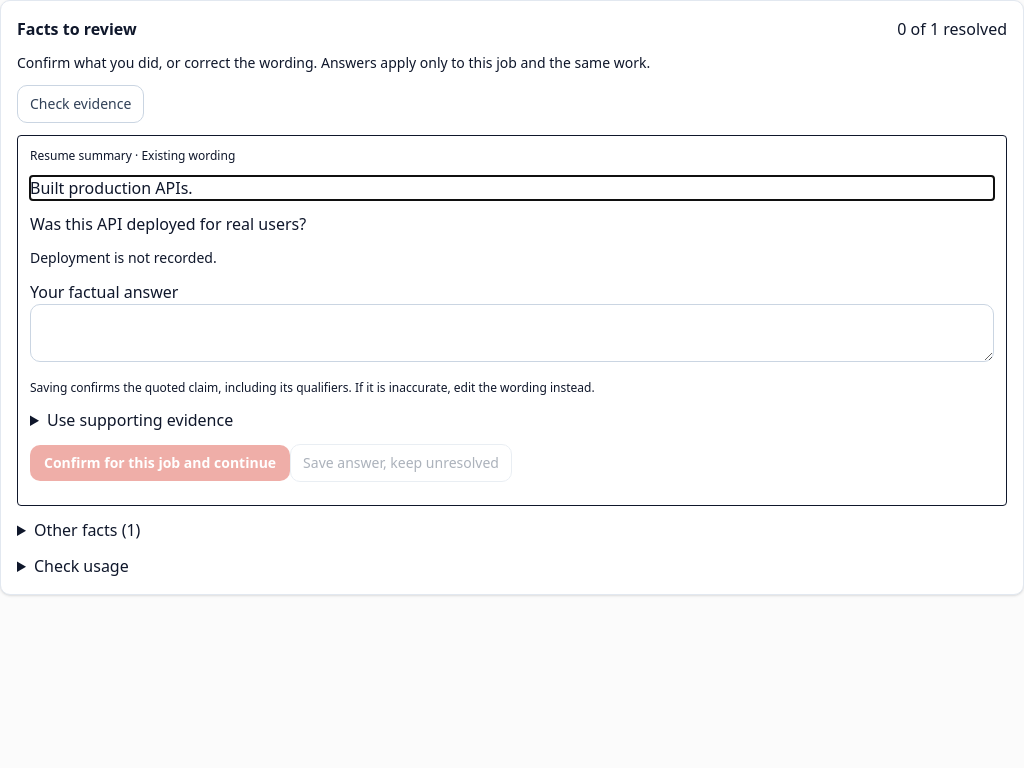
Test: saves uncertainty explicitly without treating it as confirmation
Step 1. Type "I need to check deployment." into the text box labelled "Your factual answer" → (512, 333), box [30, 304, 994, 362]
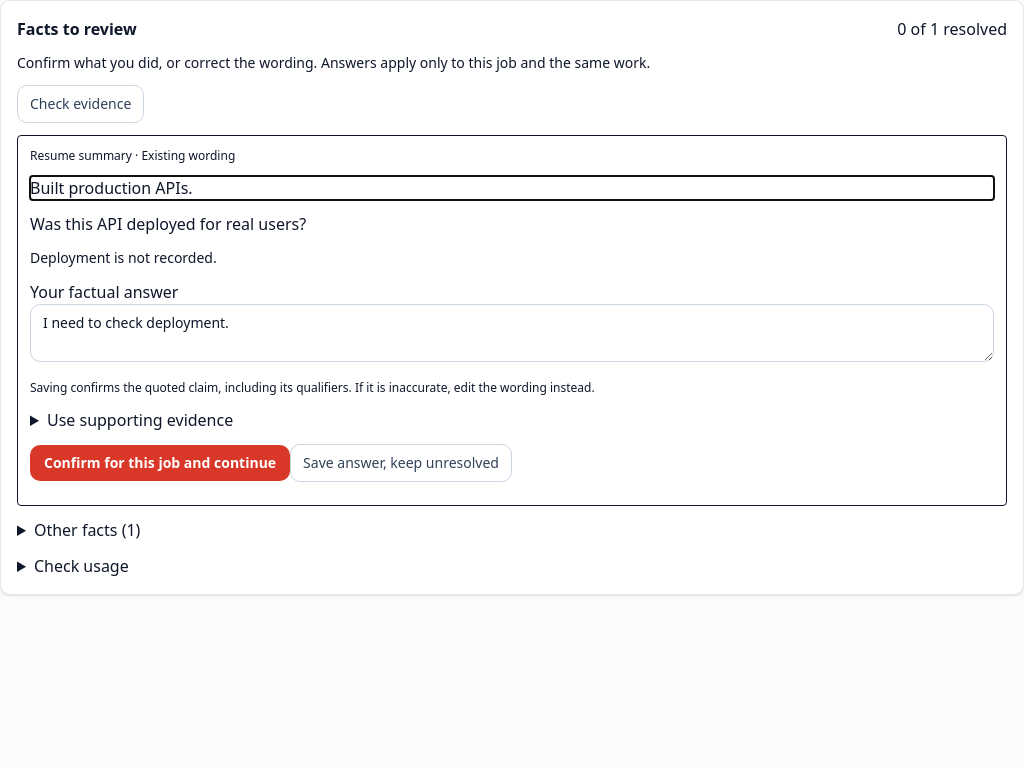
Step 2. Click the button "Save answer, keep unresolved" → (401, 463), box [290, 444, 512, 482]
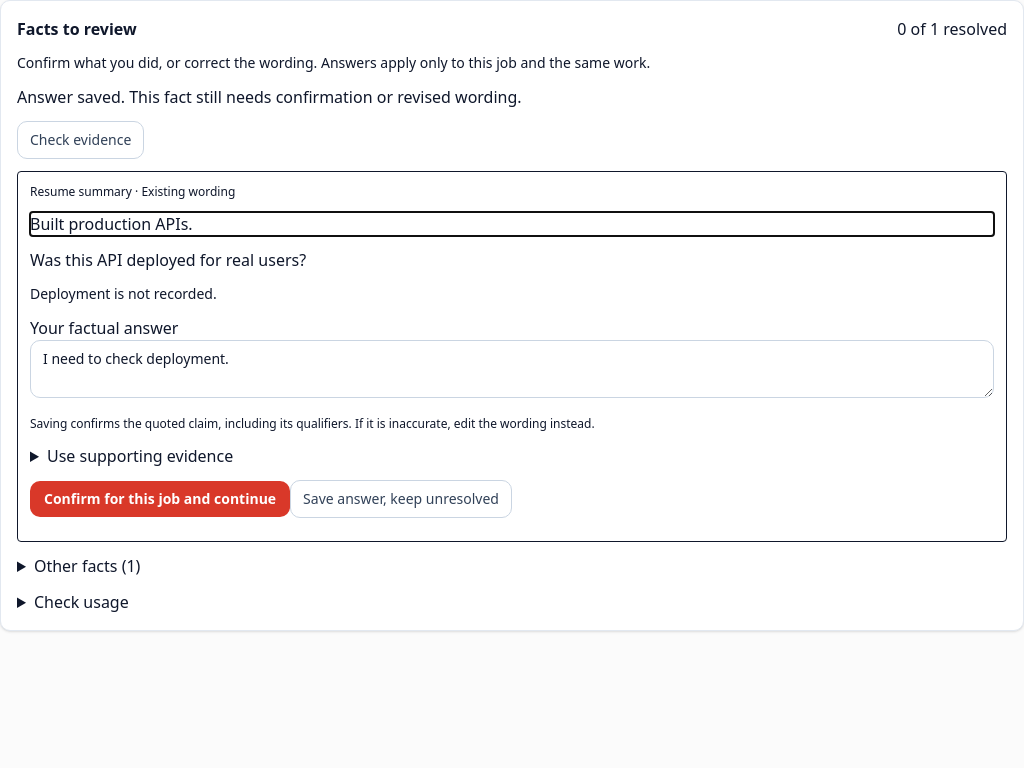
expect the text "Was this API deployed for real users?" is shown: met, box [30, 249, 306, 271]
expect the text "Answer saved. This fact still needs confirmation or revised wording." is shown: met, box [17, 86, 522, 108]
